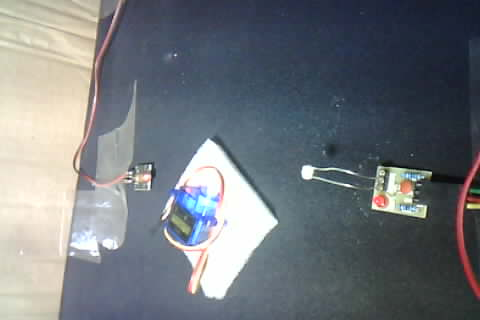motor: (155, 141, 269, 287)
